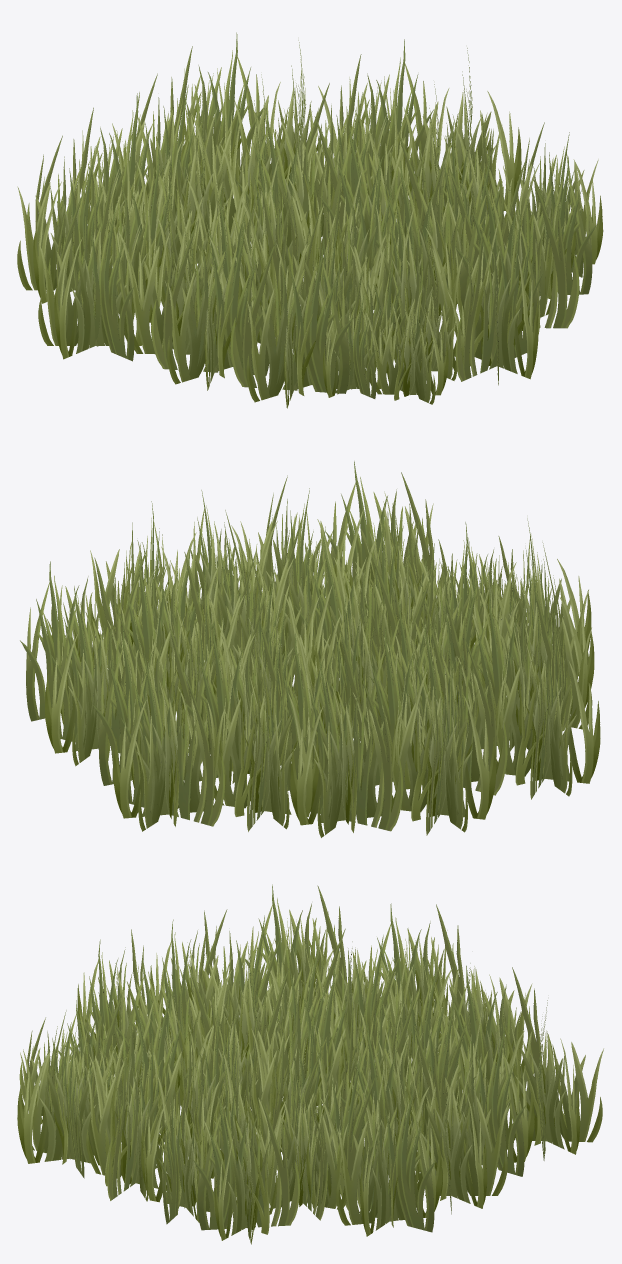
Rendered from GrassChunk3.fbx.
3 renders of one model, top to bottom at view 1: azimuth 30°, elevation 25°; view 2: azimuth 150°, elevation 25°; view 3: azimuth 270°, elevation 25°, orthographic. The views are drawn at different scales.
Visible parts, largest first — view 1: GrassChunk3; view 2: GrassChunk3; view 3: GrassChunk3.
Part boxes in pixels (x1,y1,x2,y2): GrassChunk3: (17,32,603,408); GrassChunk3: (20,461,600,837); GrassChunk3: (17,884,603,1244).
Bounding box in the file's own units: 3.1 × 0.8958 × 3.15.
